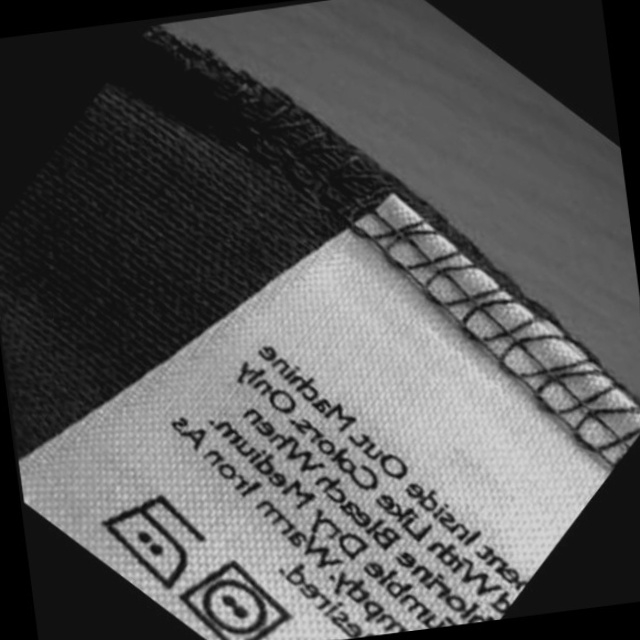iron_medium: (92, 489, 209, 595)
tumble_dry_medium: (172, 556, 293, 640)
